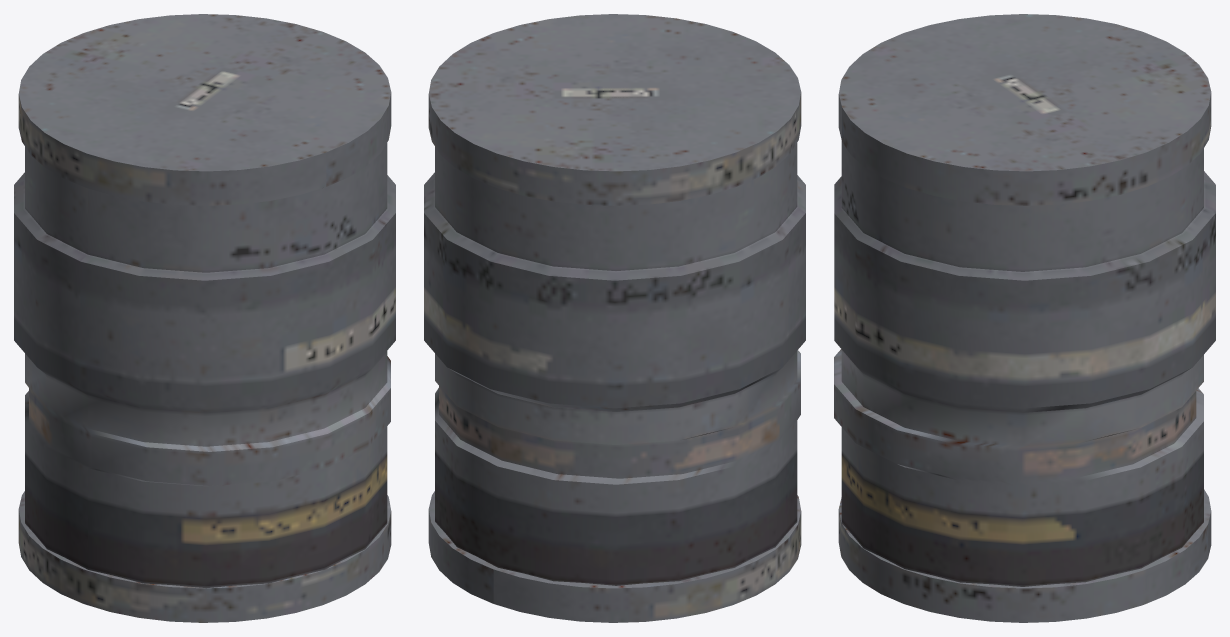
The model's file is 024_FilmReel.fbx.
The picture shows the model from 3 angles, left to right: view 1: azimuth 30°, elevation 25°; view 2: azimuth 150°, elevation 25°; view 3: azimuth 270°, elevation 25°; orthographic projection.
Parts seen in each view (by area): view 1: LOD_1_Group_0_Sub_1__sm36_021_FilmReel01A_A_Mat; view 2: LOD_1_Group_0_Sub_1__sm36_021_FilmReel01A_A_Mat; view 3: LOD_1_Group_0_Sub_1__sm36_021_FilmReel01A_A_Mat.
Part boxes in pixels (x1,y1,x2,y2): LOD_1_Group_0_Sub_1__sm36_021_FilmReel01A_A_Mat: (14, 14, 395, 622); LOD_1_Group_0_Sub_1__sm36_021_FilmReel01A_A_Mat: (424, 14, 805, 622); LOD_1_Group_0_Sub_1__sm36_021_FilmReel01A_A_Mat: (834, 14, 1215, 622).
Size of the model in its own units: 0.307 by 0.3947 by 0.3025.
